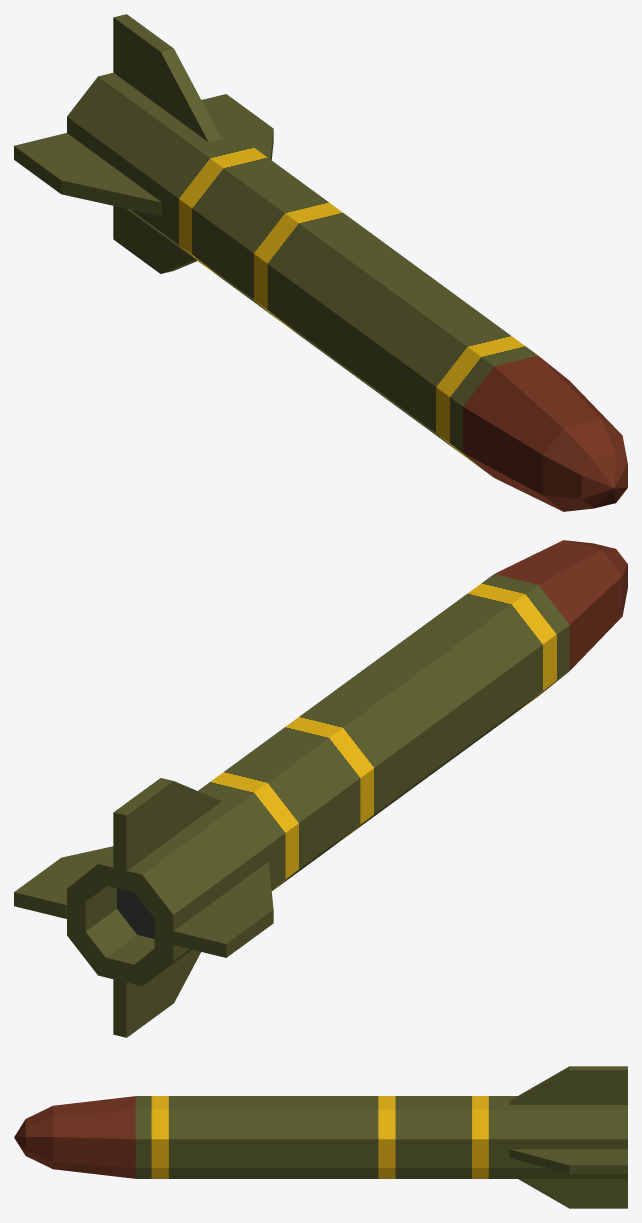
File: Missile.fbx
3 renders of one model, top to bottom at view 1: azimuth 30°, elevation 25°; view 2: azimuth 150°, elevation 25°; view 3: azimuth 270°, elevation 25°, orthographic. The views are drawn at different scales.
Parts seen in each view (by area): view 1: missile; view 2: missile; view 3: missile.
Boxes of the visible parts, box(x1,y1,x2,y2) form: missile: box(14, 14, 627, 511); missile: box(14, 540, 627, 1037); missile: box(14, 1066, 627, 1208).
Bounding box in the file's own units: 27.03 × 27.02 × 109.
